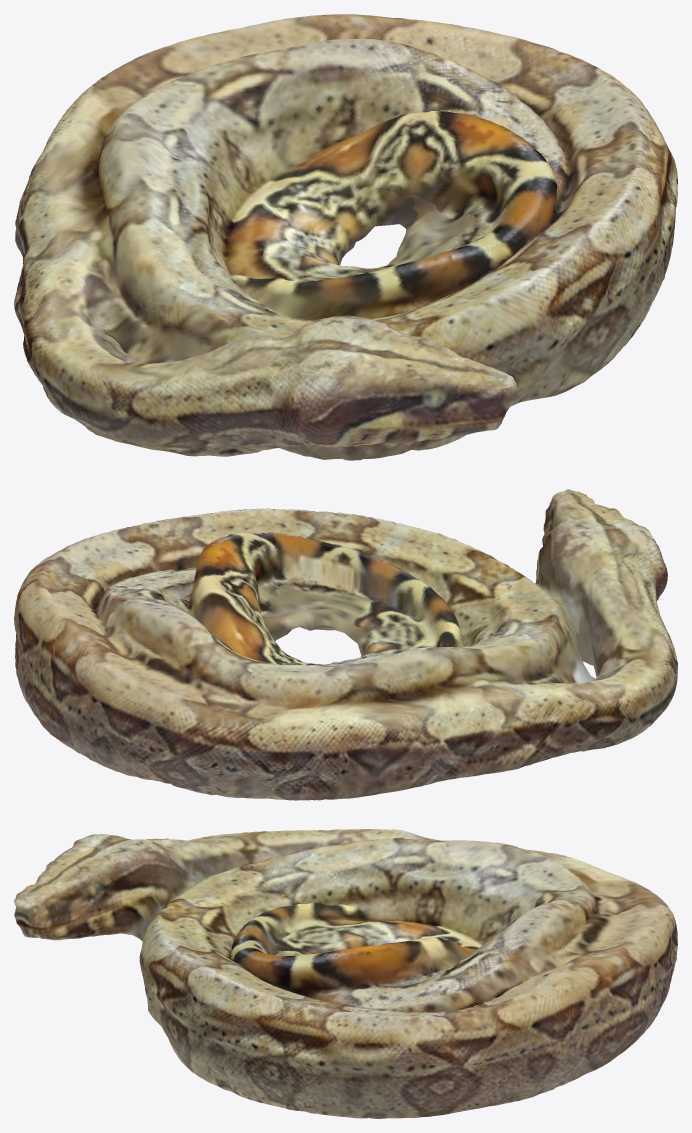
File: nm__boa2.glb
3 renders of one model, top to bottom at view 1: azimuth 30°, elevation 25°; view 2: azimuth 150°, elevation 25°; view 3: azimuth 270°, elevation 25°, orthographic. The views are drawn at different scales.
Parts seen in each view (by area): view 1: Object_4; view 2: Object_4; view 3: Object_4.
Boxes of the visible parts, <box> form: Object_4: <box>14,14,677,460</box>; Object_4: <box>14,489,677,800</box>; Object_4: <box>14,829,677,1118</box>.
Size of the model in its own units: 0.7115 by 0.2043 by 0.7837.
Materials: 1 (1 with a texture image).
